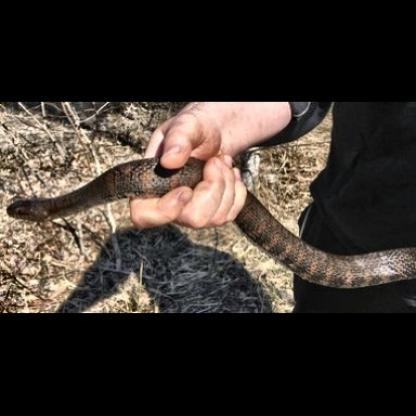Snake: (5, 149, 416, 291)
